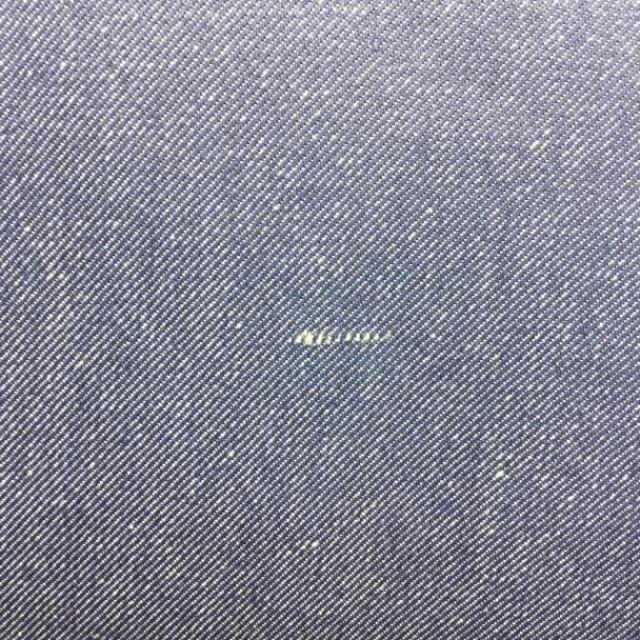Knot: (292, 329, 395, 347)
